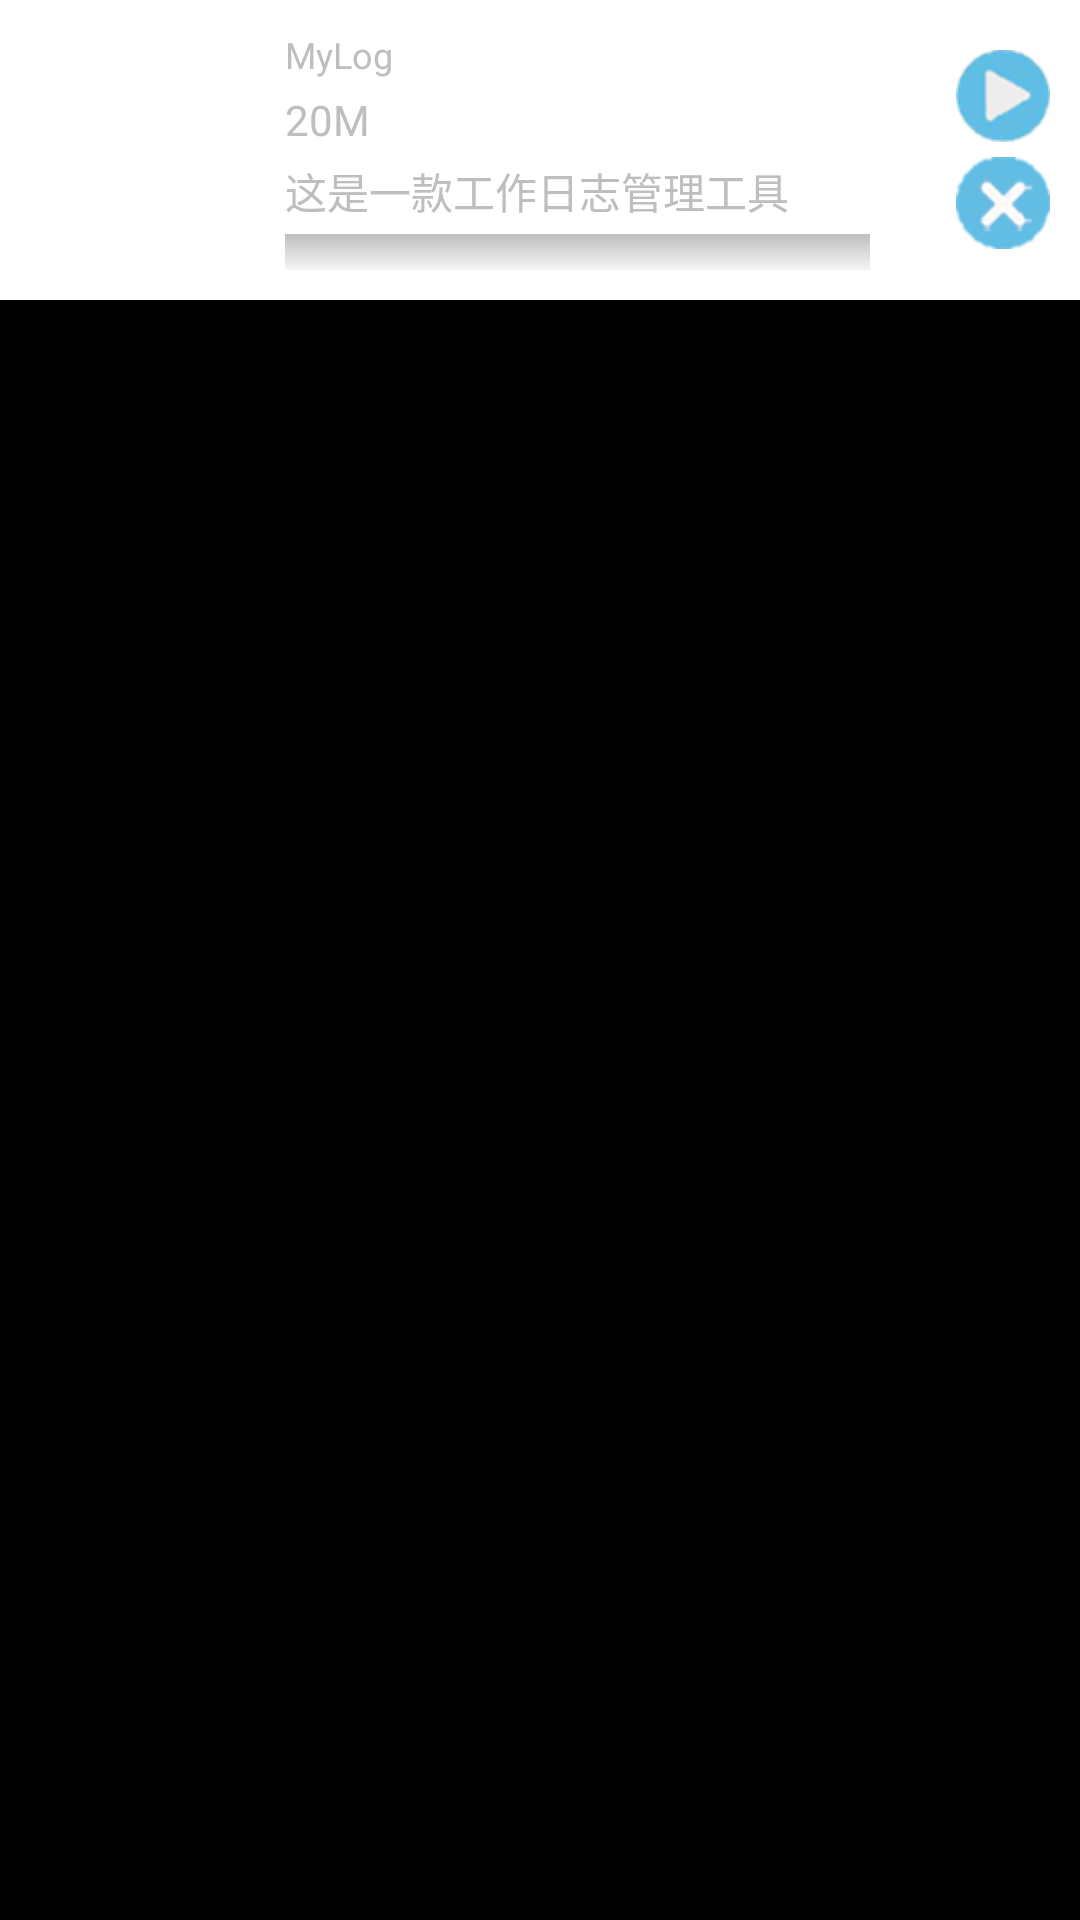

Icons on this 1080x1920 Android screen, each with its box as (x1, y1, x2, y2):
btncancel: (956, 157, 1050, 249)
btnstart: (956, 50, 1050, 142)
